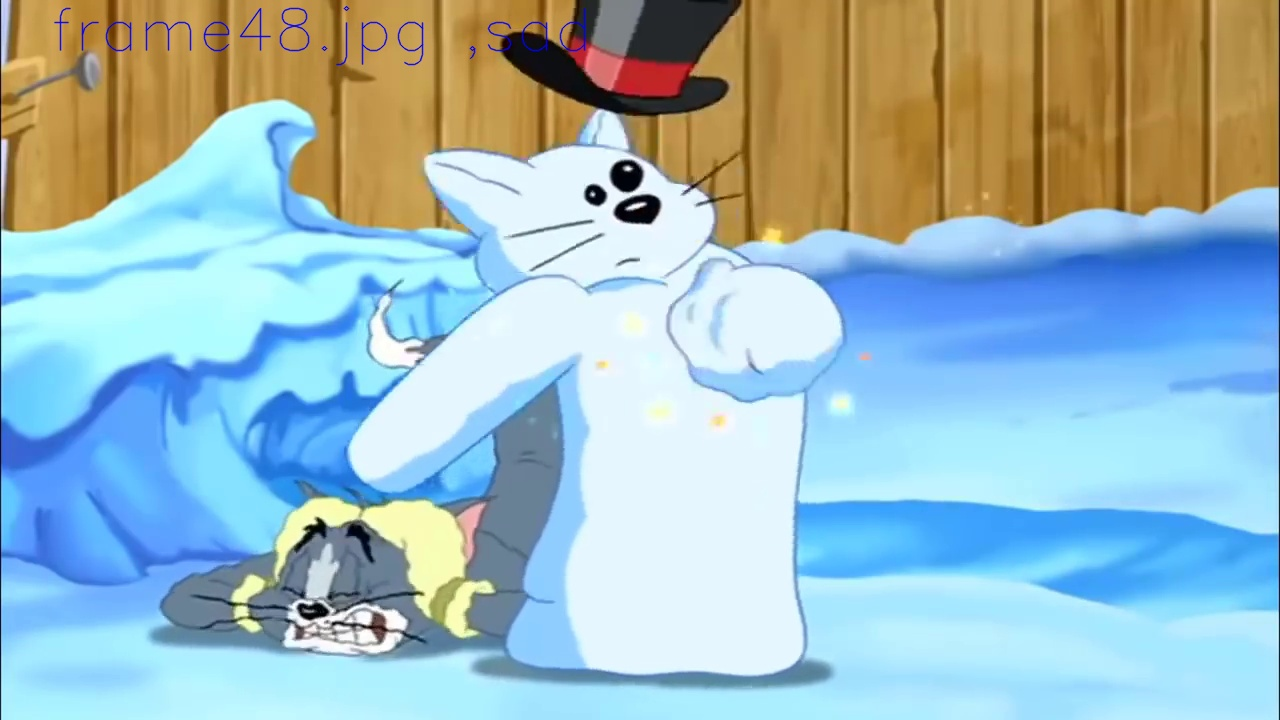sad: (281, 519, 394, 652)
